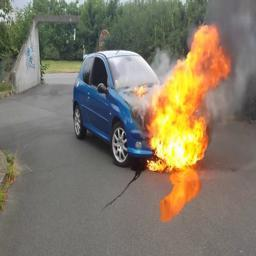fire: (145, 24, 233, 171)
